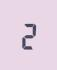two: (19, 20, 36, 49)
